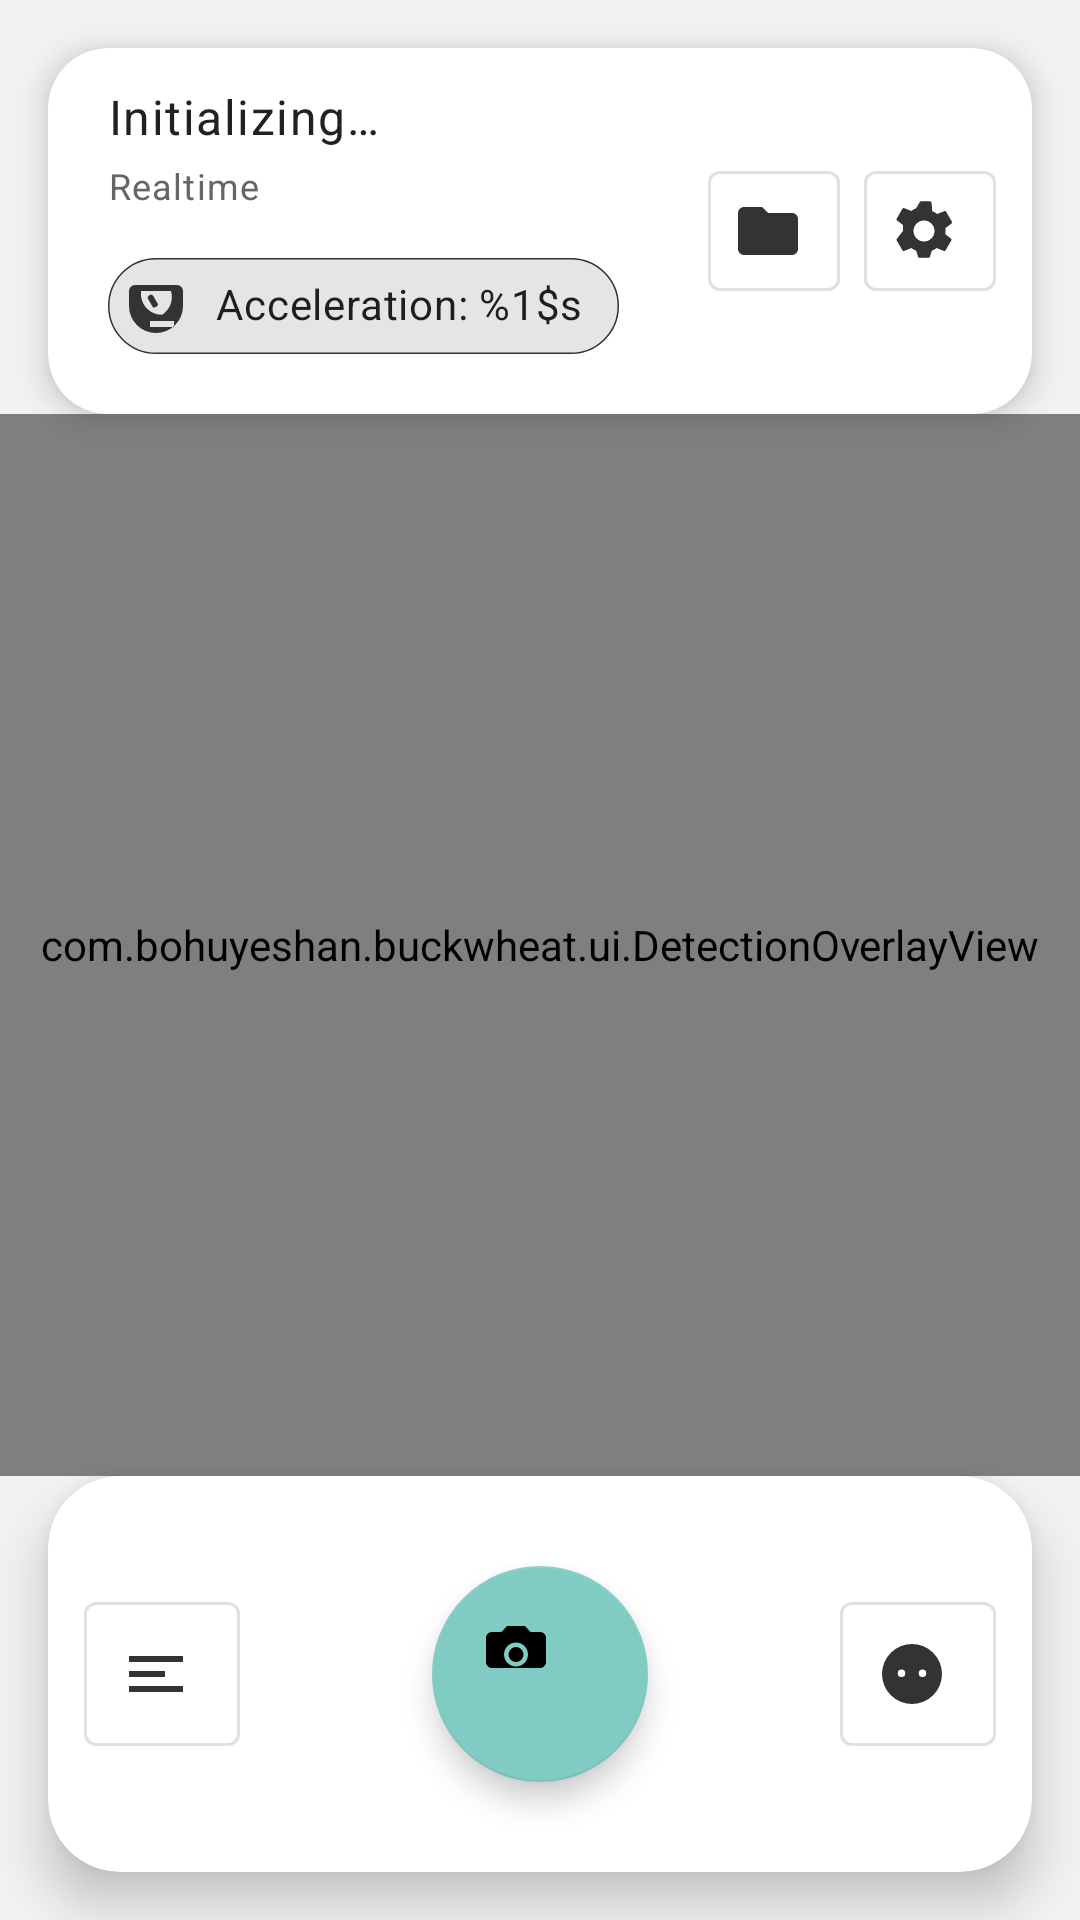

Point at icon controls on the screen. Image size 1080px x 1920px, points as point (x, y).
Shutter: point (540, 1682)
